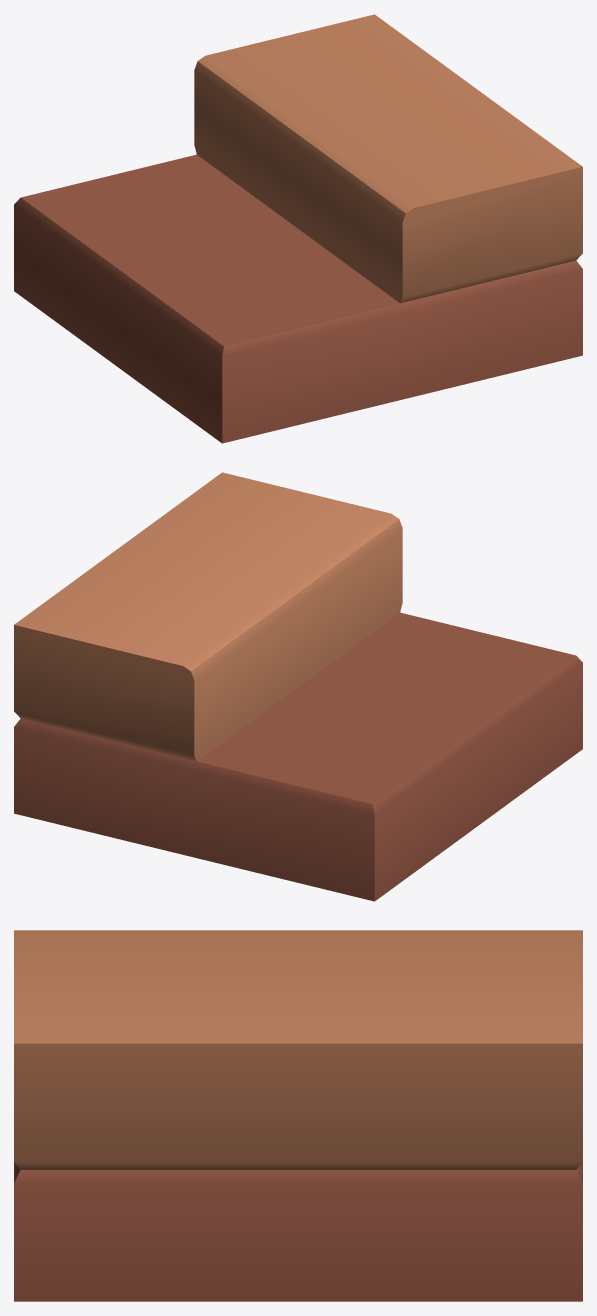
The model's file is square_rock_waterStraight_empty.glb.
The picture shows the model from 3 angles, top to bottom: view 1: azimuth 30°, elevation 25°; view 2: azimuth 150°, elevation 25°; view 3: azimuth 270°, elevation 25°; orthographic projection. The views are drawn at different scales.
Visible parts, largest first — view 1: square_rock_waterStraight_empty; view 2: square_rock_waterStraight_empty; view 3: square_rock_waterStraight_empty.
Part boxes in pixels (x1,y1,x2,y2): square_rock_waterStraight_empty: (14, 14, 582, 443); square_rock_waterStraight_empty: (14, 472, 582, 901); square_rock_waterStraight_empty: (14, 930, 582, 1301).
Size of the model in its own units: 2 by 1 by 2.
